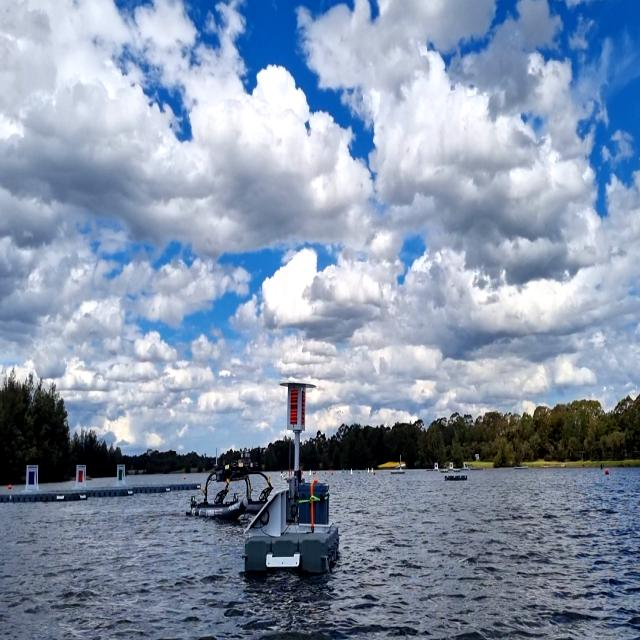led: (289, 386, 299, 428)
